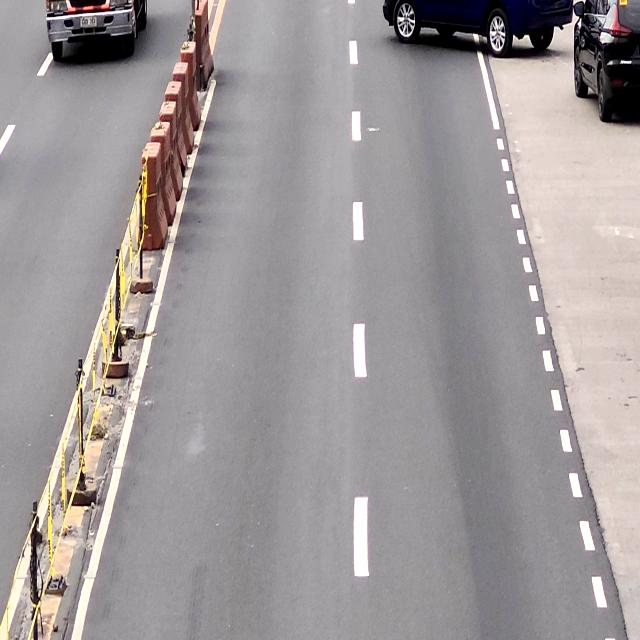Car: (382, 0, 574, 61), (573, 0, 640, 125)
